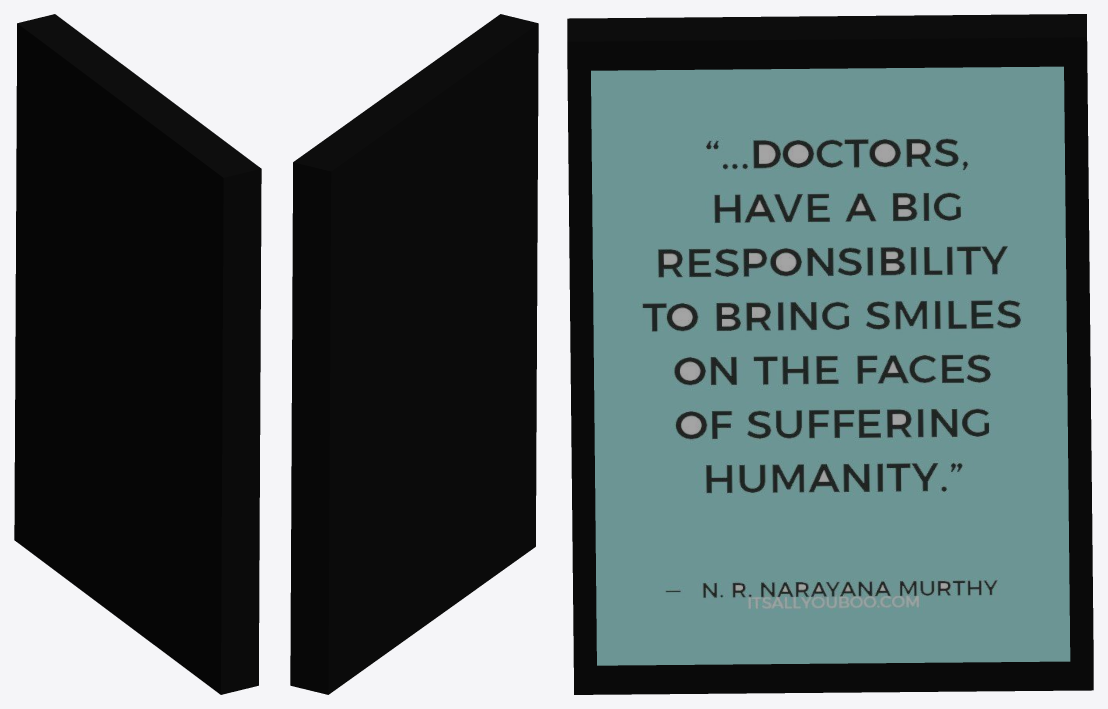
The model's file is jesus painting .fbx.
3 renders of one model, left to right at view 1: azimuth 30°, elevation 25°; view 2: azimuth 150°, elevation 25°; view 3: azimuth 270°, elevation 25°, orthographic. The views are drawn at different scales.
Visible parts, largest first — view 1: Cube.001; view 2: Cube.001; view 3: Cube.001.
Boxes of the visible parts, left/top/right/bottom form: Cube.001: left=14, top=14, right=261, bottom=694; Cube.001: left=290, top=14, right=538, bottom=694; Cube.001: left=567, top=14, right=1093, bottom=694.
Bounding box in the file's own units: 15.36 × 202 × 147.
Materials: 2 (1 with a texture image).
